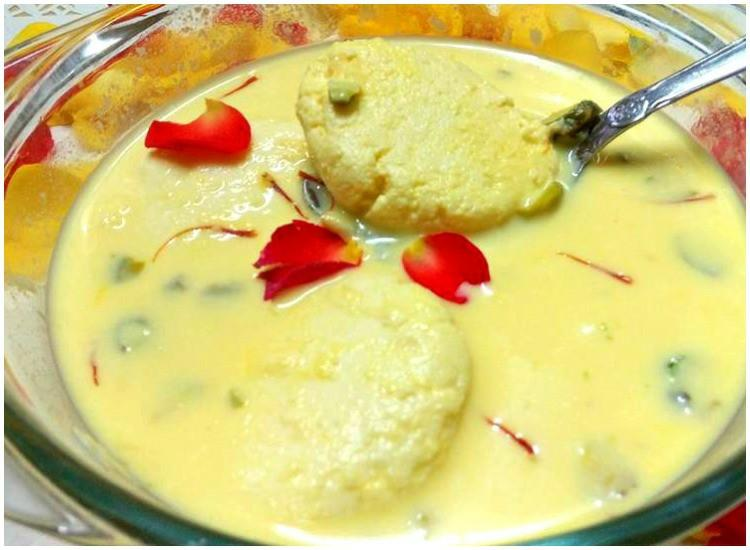RasMalai: (45, 35, 750, 550)
